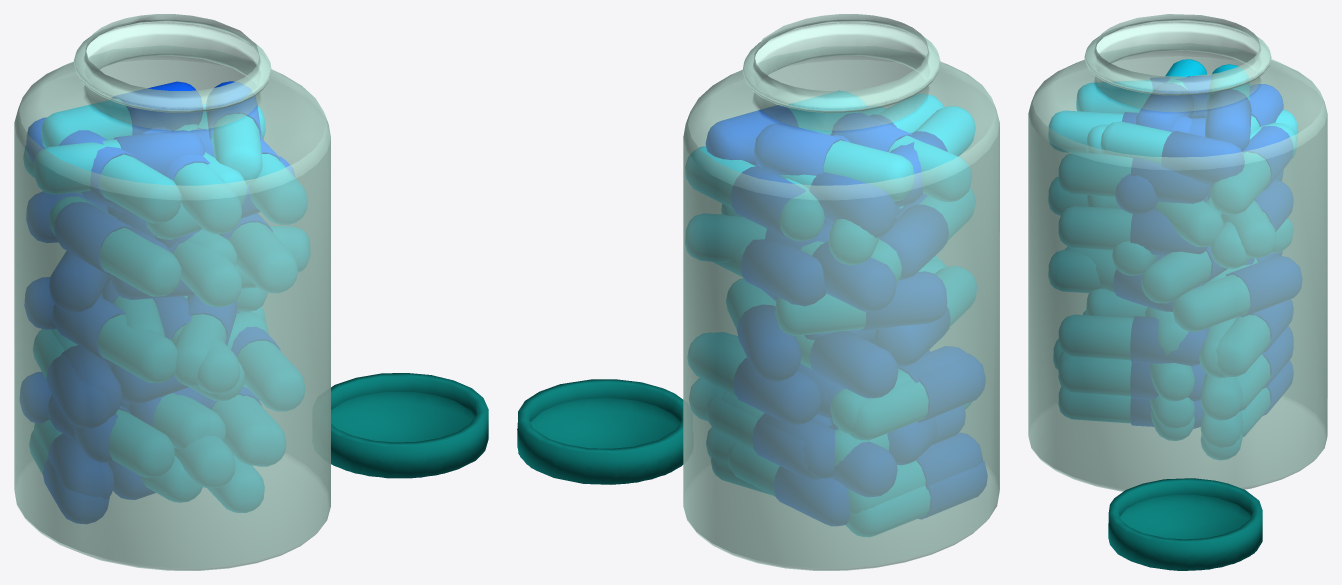
File: PillsBottle.fbx
3 views of the same model, side by side, from view 1: azimuth 30°, elevation 25°; view 2: azimuth 150°, elevation 25°; view 3: azimuth 270°, elevation 25° (orthographic). The views are drawn at different scales.
Parts seen in each view (by area): view 1: Cube.005; view 2: Cube.005; view 3: Cube.005.
Boxes of the visible parts, x1,y1,x2,y2 form: Cube.005: [14, 14, 488, 570]; Cube.005: [517, 14, 999, 570]; Cube.005: [1028, 14, 1327, 570].
Size of the model in its own units: 1.3 by 1.26 by 0.8669.
